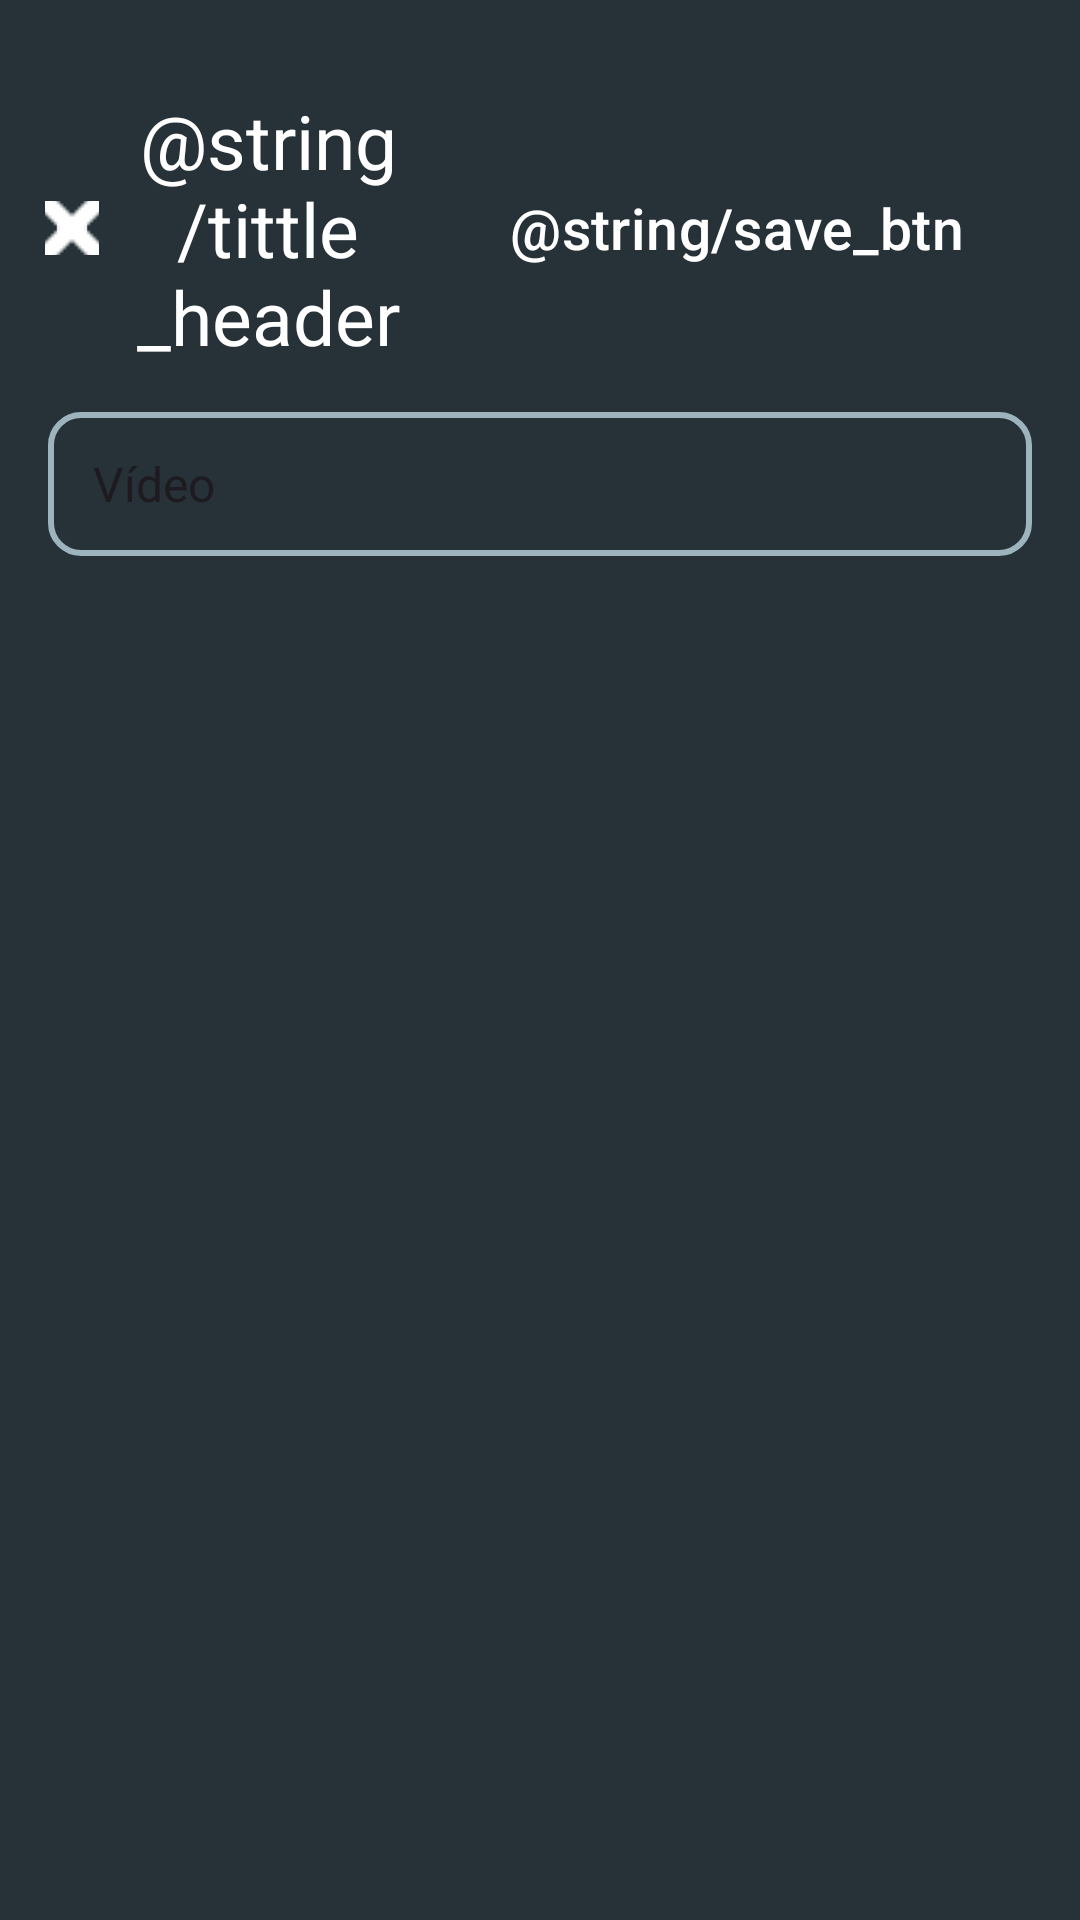

Icons on this 1080px×1920px Android screen, each with the point to tap as (x,y):
close: (72,228)
